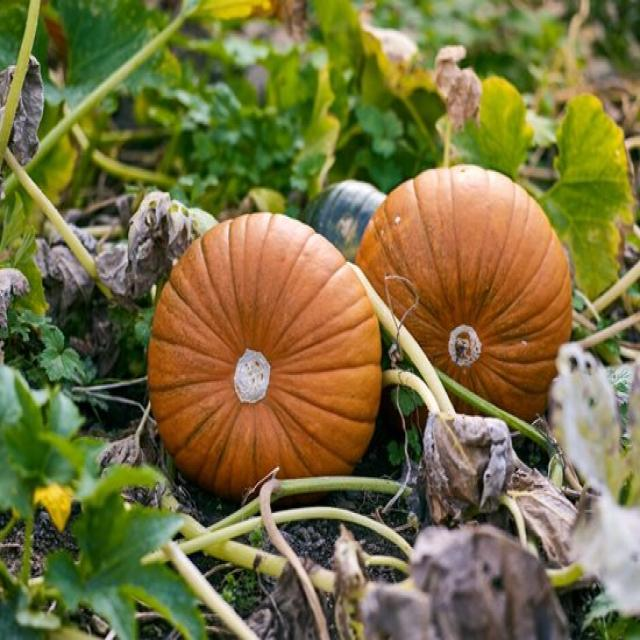pumpkin: (149, 215, 380, 499), (359, 165, 571, 419)
